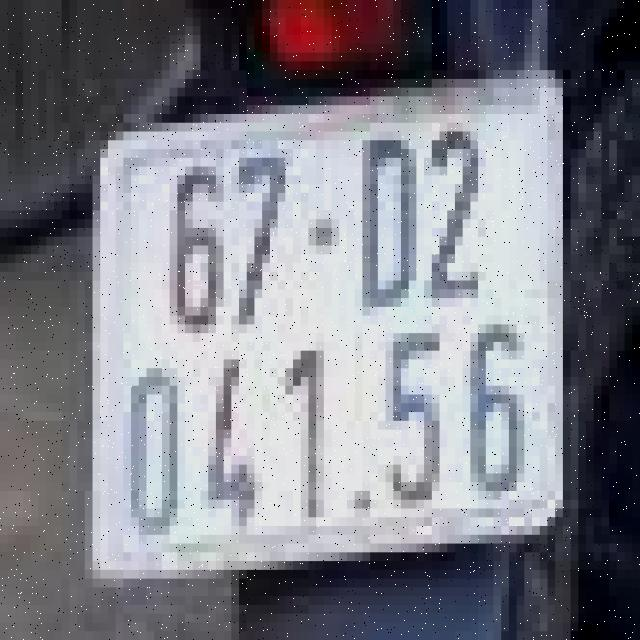0: (116, 364, 192, 539)
1: (278, 342, 339, 526)
2: (428, 119, 490, 302)
4: (200, 351, 270, 526)
5: (382, 324, 451, 508)
6: (463, 311, 532, 504), (162, 158, 231, 333)
7: (235, 149, 289, 324)
D: (355, 131, 424, 307)
